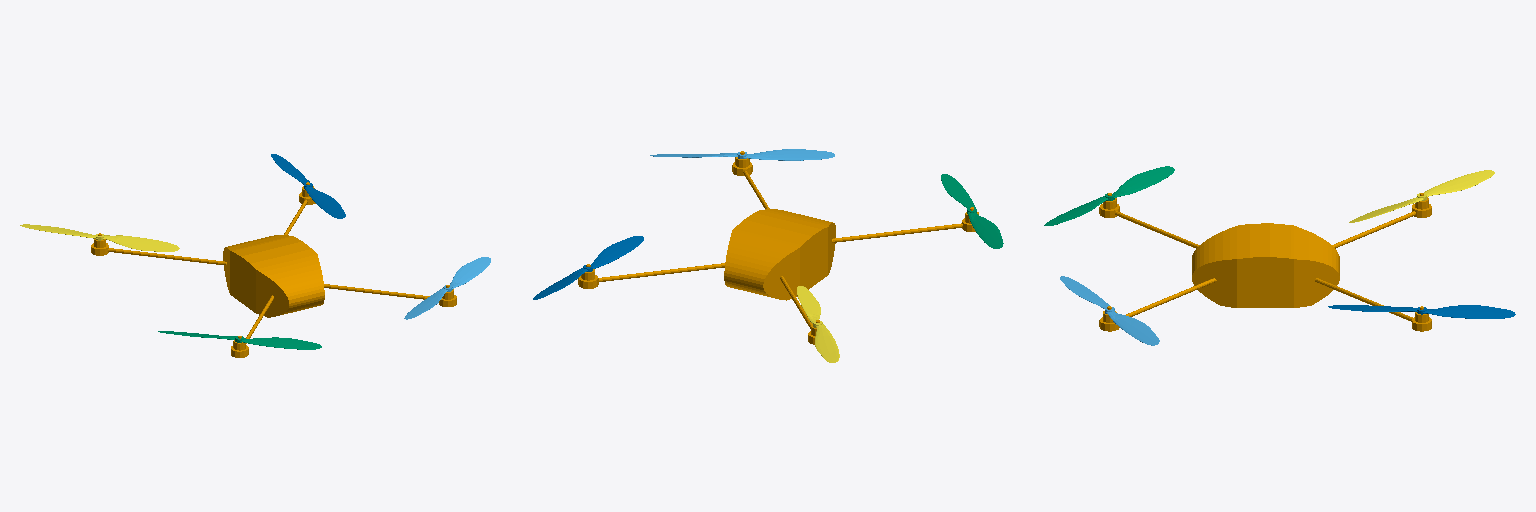
URDF robot description (Drone_Assembly):
<?xml version="1.0" encoding="utf-8"?>
<!-- This URDF was automatically created by SolidWorks to URDF Exporter! Originally created by [author] ([email redacted]) 
     Commit Version: 1.6.0-4-g7f85cfe  Build Version: 1.6.7995.38578
     For more information, please see http://wiki.ros.org/sw_urdf_exporter -->
<robot name="Drone_Assembly">
 <link name="base_link">
  <inertial>
   <origin rpy="0 0 0" xyz="9.3352E-08 -8.6507E-06 -0.020163"/>
   <mass value="2.83"/>
   <inertia ixx="0.020222" ixy="3.5918E-08" ixz="-7.5829E-11" iyy="0.011563" iyz="-5.9524E-09" izz="0.02802"/>
  </inertial>
  <visual>
   <origin rpy="0 0 0" xyz="0 0 0"/>
   <geometry>
    <mesh filename="meshes/base_link.STL"/>
   </geometry>
  </visual>
  <collision>
   <origin rpy="0 0 0" xyz="0 0 0"/>
   <geometry>
    <mesh filename="meshes/base_link.STL"/>
   </geometry>
  </collision>
 </link>
 <link name="Prop_1">
  <visual>
   <origin rpy="0 0 0" xyz="0 0 0"/>
   <geometry>
    <mesh filename="meshes/Prop_1.STL"/>
   </geometry>
  </visual>
 </link>
 <joint name="Prop_1" type="continuous">
  <origin rpy="0 0 0" xyz="0.23575 -0.27404 0.0070576"/>
  <parent link="base_link"/>
  <child link="Prop_1"/>
  <axis xyz="0.061276 -0.10354 0.99274"/>
  <limit effort="0" lower="0" upper="0" velocity="0"/>
  <dynamics damping="0" friction="0"/>
 </joint>
 <link name="Prop_2">
  <visual>
   <origin rpy="0 0 0" xyz="0 0 0"/>
   <geometry>
    <mesh filename="meshes/Prop_2.STL"/>
   </geometry>
  </visual>
 </link>
 <joint name="Prop_2" type="continuous">
  <origin rpy="0 0 0" xyz="-0.23575 -0.27404 0.0070576"/>
  <parent link="base_link"/>
  <child link="Prop_2"/>
  <axis xyz="0.081377 0.088619 0.99274"/>
  <limit effort="0" lower="0" upper="0" velocity="0"/>
  <dynamics damping="0" friction="0"/>
 </joint>
 <link name="Prop_3">
  <visual>
   <origin rpy="0 0 0" xyz="0 0 0"/>
   <geometry>
    <mesh filename="meshes/Prop_3.STL"/>
   </geometry>
  </visual>
 </link>
 <joint name="Prop_3" type="continuous">
  <origin rpy="0 0 0" xyz="-0.23575 0.27404 0.0070576"/>
  <parent link="base_link"/>
  <child link="Prop_3"/>
  <axis xyz="0.091982 0.077554 -0.99274"/>
  <limit effort="0" lower="0" upper="0" velocity="0"/>
  <dynamics damping="0" friction="0"/>
 </joint>
 <link name="Prop_4">
  <visual>
   <origin rpy="0 0 0" xyz="0 0 0"/>
   <geometry>
    <mesh filename="meshes/Prop_4.STL"/>
   </geometry>
  </visual>
 </link>
 <joint name="Prop_4" type="continuous">
  <origin rpy="0 0 0" xyz="0.23575 0.27404 0.0070576"/>
  <parent link="base_link"/>
  <child link="Prop_4"/>
  <axis xyz="0.11976 -0.011499 0.99274"/>
  <limit effort="0" lower="0" upper="0" velocity="0"/>
  <dynamics damping="0" friction="0"/>
 </joint>
</robot>

--- What the picture shows (computed from the rendered views, not written in the file) ---
The picture shows the robot from 3 angles, left to right: view 1: azimuth 30°, elevation 25°; view 2: azimuth 150°, elevation 25°; view 3: azimuth 270°, elevation 25°; orthographic projection.
Robot: Drone_Assembly — 5 links, 4 joints (4 continuous); root link base_link; default pose: all joints at 0.
Visible links, largest first — view 1: base_link, Prop_3, Prop_1, Prop_4, Prop_2; view 2: base_link, Prop_2, Prop_3, Prop_4, Prop_1; view 3: base_link, Prop_4, Prop_2, Prop_1, Prop_3.
Link boxes in pixels (box(x1,y1,x2,y2)): base_link: box(91, 182, 456, 357); Prop_3: box(20, 224, 179, 251); Prop_1: box(404, 257, 490, 319); Prop_4: box(271, 154, 345, 218); Prop_2: box(158, 331, 321, 349); base_link: box(578, 151, 978, 344); Prop_2: box(941, 174, 1003, 248); Prop_3: box(797, 286, 839, 362); Prop_4: box(533, 236, 643, 299); Prop_1: box(650, 149, 834, 160); base_link: box(1099, 193, 1431, 331); Prop_4: box(1328, 305, 1515, 318); Prop_2: box(1044, 166, 1174, 225); Prop_1: box(1060, 276, 1159, 345); Prop_3: box(1349, 170, 1494, 222).
Size in the robot's own frame: 0.7381 by 0.8268 by 0.0999 metres.
Meshes: 5 distinct files referenced, 5 mesh visuals loaded (5 binary STL).